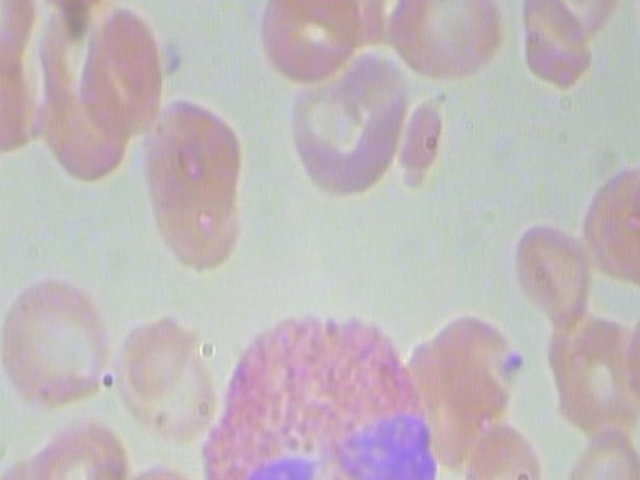RBC: (0, 269, 121, 421), (111, 308, 212, 440), (72, 0, 163, 137), (507, 210, 598, 331), (378, 0, 504, 81), (250, 0, 361, 86), (502, 0, 594, 99), (0, 414, 131, 480), (455, 414, 547, 480)
WBC: (197, 296, 446, 480)
